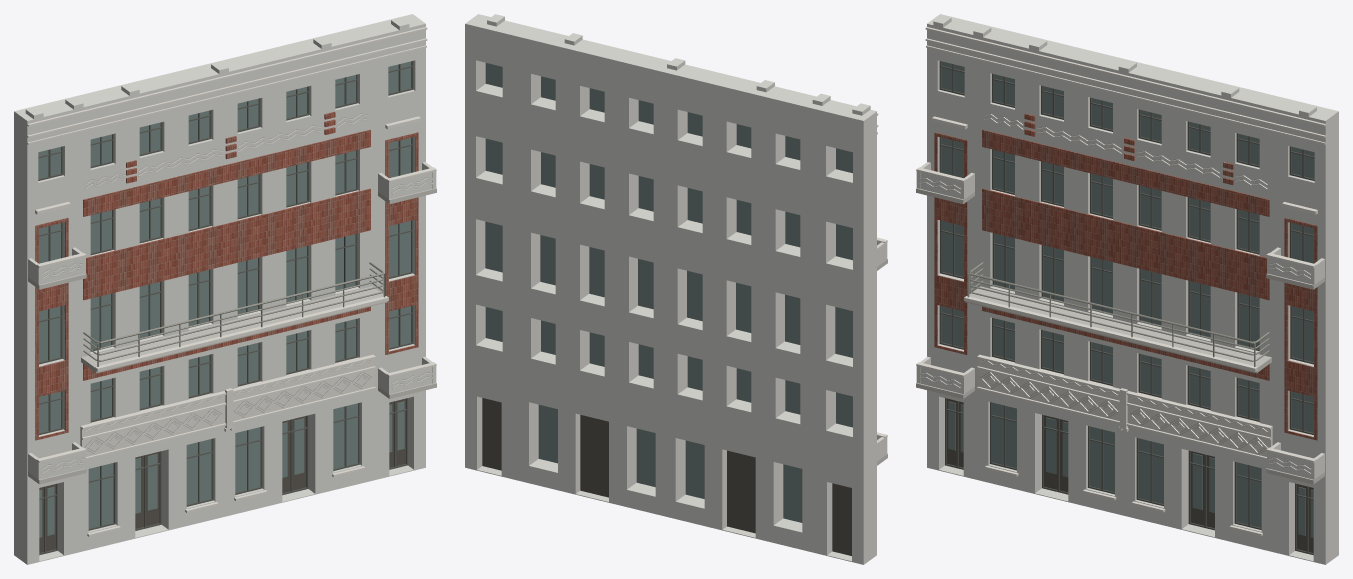
File: huangpu-guangdong-306-trading-house-front-lod.glb
The picture shows the model from 3 angles, left to right: view 1: azimuth 30°, elevation 25°; view 2: azimuth 150°, elevation 25°; view 3: azimuth 330°, elevation 25°; orthographic projection.
Parts seen in each view (by area): view 1: 广东路306号洋行旧址南立面长阳台与几何饰带; view 2: 广东路306号洋行旧址南立面长阳台与几何饰带; view 3: 广东路306号洋行旧址南立面长阳台与几何饰带.
Part boxes in pixels (x1,y1,x2,y2): 广东路306号洋行旧址南立面长阳台与几何饰带: [14, 14, 436, 564]; 广东路306号洋行旧址南立面长阳台与几何饰带: [465, 14, 887, 564]; 广东路306号洋行旧址南立面长阳台与几何饰带: [916, 14, 1338, 564].
Bounding box in the file's own units: 14.87 × 15.96 × 1.93.
Materials: 9 (1 with a texture image).
